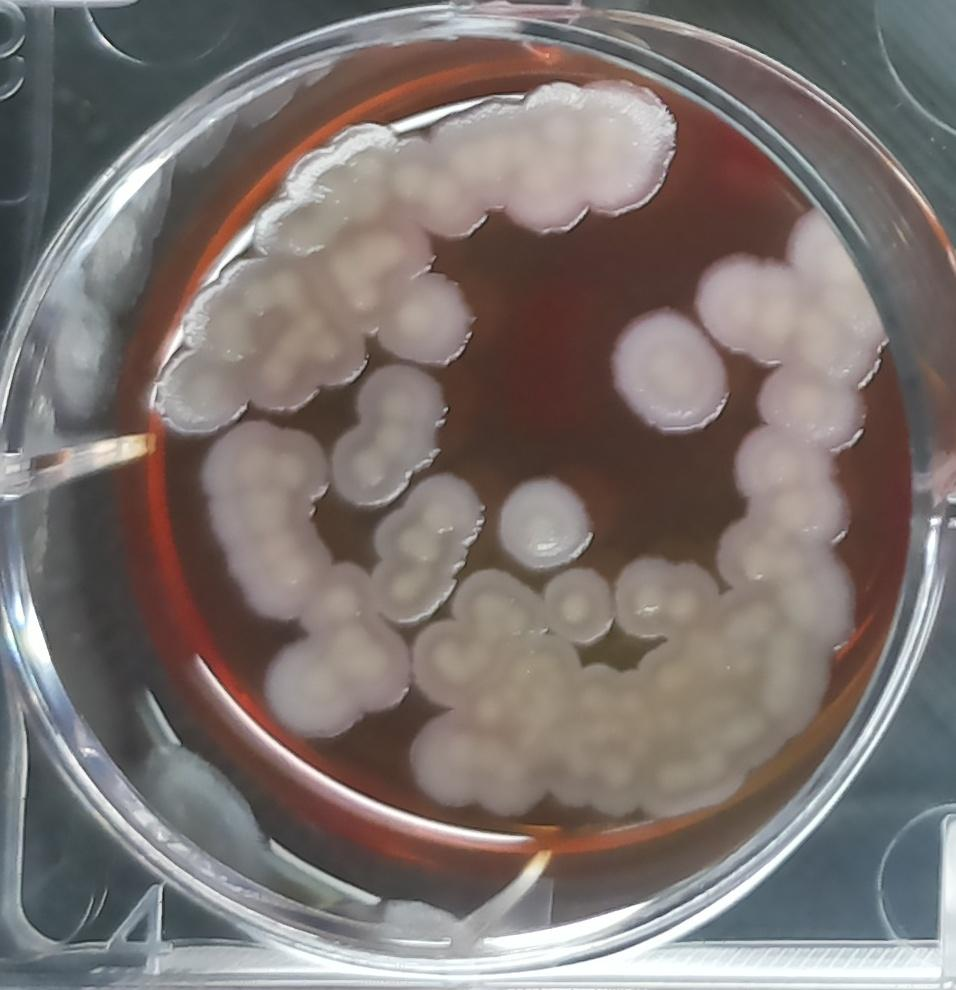bcereus: (601, 292, 734, 447), (486, 462, 600, 576)
